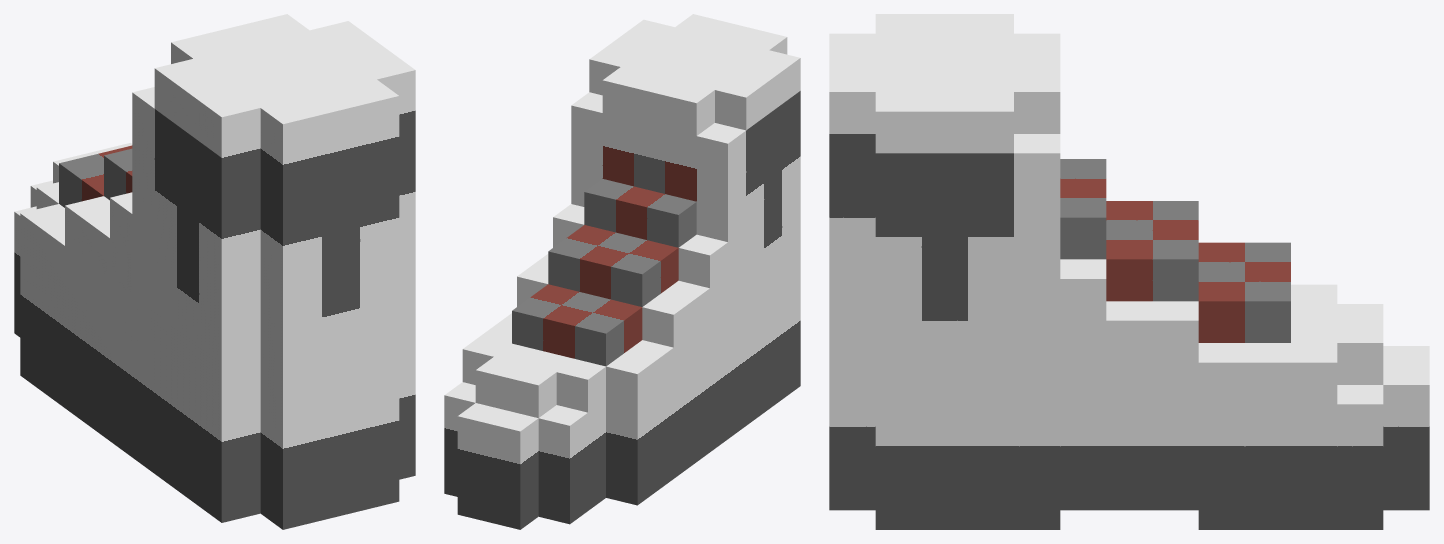
The model's file is but1.dae.
3 renders of one model, left to right at view 1: azimuth 30°, elevation 25°; view 2: azimuth 150°, elevation 25°; view 3: azimuth 270°, elevation 25°, orthographic. The views are drawn at different scales.
Parts seen in each view (by area): view 1: Content; view 2: Content; view 3: Content.
Boxes of the visible parts, x1,y1,x2,y2 form: Content: (14, 14, 415, 529); Content: (444, 14, 800, 529); Content: (829, 14, 1429, 529).
Size of the model in its own units: 5 by 10 by 13.
Materials: 1 (1 with a texture image).
